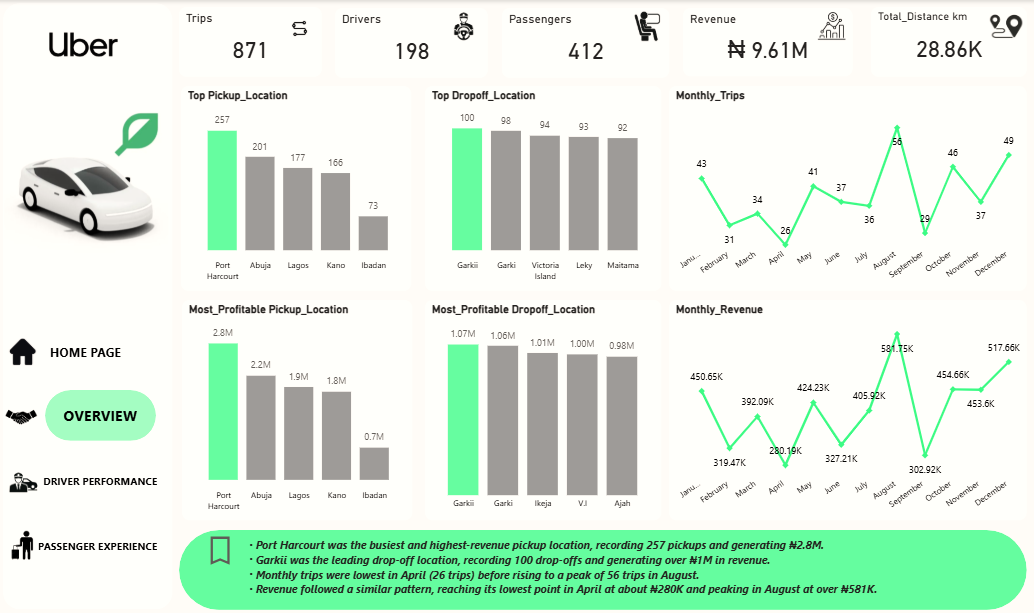

This screenshot's page, from the dashboard's own definition file:
{"tool":"powerbi","page":{"name":"OVERVIEW","canvas":[1350,800],"ordinal":1},"visuals":[{"type":"card","title":"Trips","fields":{"Values":["uber cleaned dataset.Total_Trips"]},"box":[235.8,9.5,185.7,90.8],"z":0},{"type":"card","title":"Drivers","fields":{"Values":["uber cleaned dataset.Total_Drivers"]},"box":[439.5,10.8,199.2,90.8],"z":1000},{"type":"card","title":"Passengers","fields":{"Values":["uber cleaned dataset.Total_passengers"]},"box":[656.7,10.8,218.2,90.8],"z":2000},{"type":"card","title":"Revenue","fields":{"Values":["Sum(uber cleaned dataset.Clean_Fare)"]},"box":[892.9,10.8,220.9,89.5],"z":3000},{"type":"card","title":"Total_Distance km","fields":{"Values":["Sum(uber cleaned dataset.Distance_km)"]},"box":[1137.2,9.5,203.3,90.8],"z":4000},{"type":"shape","box":[6.8,4.1,220.9,790.2],"z":5000},{"type":"columnChart","title":"Top Pickup_Location","fields":{"Category":["uber cleaned dataset.Pickup_Location"],"Y":["uber cleaned dataset.Total_Pickup"]},"box":[238.6,112.5,299.5,267],"z":6000},{"type":"columnChart","title":"Top Dropoff_Location","fields":{"Category":["uber cleaned dataset.Dropoff_Location"],"Y":["uber cleaned dataset.Total_Dropoff"]},"box":[555.7,112.5,307.7,267],"z":7000},{"type":"columnChart","title":"Most_Profitable Dropoff_Location","fields":{"Category":["uber cleaned dataset.Dropoff_Location"],"Y":["Sum(uber cleaned dataset.Clean_Fare)"]},"box":[555.7,390.4,307.7,287.3],"z":8000},{"type":"columnChart","title":"Most_Profitable Pickup_Location","fields":{"Category":["uber cleaned dataset.Pickup_Location"],"Y":["Sum(uber cleaned dataset.Clean_Fare)"]},"box":[239.9,390.4,299.5,287.3],"z":9000},{"type":"lineChart","title":"Monthly_Trips","fields":{"Category":["uber cleaned dataset.Cleaned_Date.Variation.Date Hierarchy.Month"],"Y":["uber cleaned dataset.Total_Trips"]},"box":[874.2,112.5,466.3,267],"z":10000},{"type":"lineChart","title":"Monthly_Revenue","fields":{"Category":["uber cleaned dataset.Cleaned_Date.Variation.Date Hierarchy.Month"],"Y":["Sum(uber cleaned dataset.Clean_Fare)"]},"box":[874.2,390.4,466.3,287.3],"z":11000},{"type":"shape","box":[235.8,689.9,1104.7,104.4],"z":12000},{"type":"actionButton","box":[6.5,424.8,215,66.4],"z":13000},{"type":"actionButton","box":[61.2,508.1,144.6,66.4],"z":14000},{"type":"actionButton","box":[6.5,592.8,215,66.4],"z":15000},{"type":"actionButton","box":[6.5,677.5,215,66.4],"z":16000},{"type":"actionButton","box":[265.7,689.9,47.4,52.9],"z":17000},{"type":"image","box":[7.8,58.6,213.7,349.2],"z":18000},{"type":"image","box":[363.3,13.6,55.6,46.1],"z":19000},{"type":"image","box":[578.5,13,56,41.7],"z":20000},{"type":"image","box":[822.1,14.3,48.2,40.4],"z":21000},{"type":"image","box":[1063.2,14.3,46.9,40.4],"z":22000},{"type":"image","box":[1289.9,13,45.6,41.7],"z":23000},{"type":"textbox","box":[313.1,695.3,977.3,94.9],"z":24000},{"type":"image","box":[16.9,14.3,188.9,87.3],"z":25000},{"type":"image","box":[13,608.5,40.4,40.4],"z":26000},{"type":"image","box":[11.7,439.1,41.7,39.1],"z":27000},{"type":"image","box":[11.7,690.6,41.7,40.4],"z":28000},{"type":"image","box":[9.1,522.5,44.3,39.1],"z":29000}]}

Visuals, with their boxes in screenshot pixels (x1, y1, x2, y2), scaled from the page's 1350x800 canvas onto the 1034x613 screenshot:
"Trips" card: x1=181 y1=7 x2=323 y2=77
"Drivers" card: x1=337 y1=8 x2=489 y2=78
"Passengers" card: x1=503 y1=8 x2=670 y2=78
"Revenue" card: x1=684 y1=8 x2=853 y2=77
"Total_Distance km" card: x1=871 y1=7 x2=1027 y2=77
shape: x1=5 y1=3 x2=174 y2=609
"Top Pickup_Location" columnChart: x1=183 y1=86 x2=412 y2=291
"Top Dropoff_Location" columnChart: x1=426 y1=86 x2=661 y2=291
"Most_Profitable Dropoff_Location" columnChart: x1=426 y1=299 x2=661 y2=519
"Most_Profitable Pickup_Location" columnChart: x1=184 y1=299 x2=413 y2=519
"Monthly_Trips" lineChart: x1=670 y1=86 x2=1027 y2=291
"Monthly_Revenue" lineChart: x1=670 y1=299 x2=1027 y2=519
shape: x1=181 y1=529 x2=1027 y2=609
actionButton: x1=5 y1=326 x2=170 y2=376
actionButton: x1=47 y1=389 x2=158 y2=440
actionButton: x1=5 y1=454 x2=170 y2=505
actionButton: x1=5 y1=519 x2=170 y2=570
actionButton: x1=204 y1=529 x2=240 y2=569
image: x1=6 y1=45 x2=170 y2=312
image: x1=278 y1=10 x2=321 y2=46
image: x1=443 y1=10 x2=486 y2=42
image: x1=630 y1=11 x2=667 y2=42
image: x1=814 y1=11 x2=850 y2=42
image: x1=988 y1=10 x2=1023 y2=42
textbox: x1=240 y1=533 x2=988 y2=605
image: x1=13 y1=11 x2=158 y2=78
image: x1=10 y1=466 x2=41 y2=497
image: x1=9 y1=336 x2=41 y2=366
image: x1=9 y1=529 x2=41 y2=560
image: x1=7 y1=400 x2=41 y2=430
